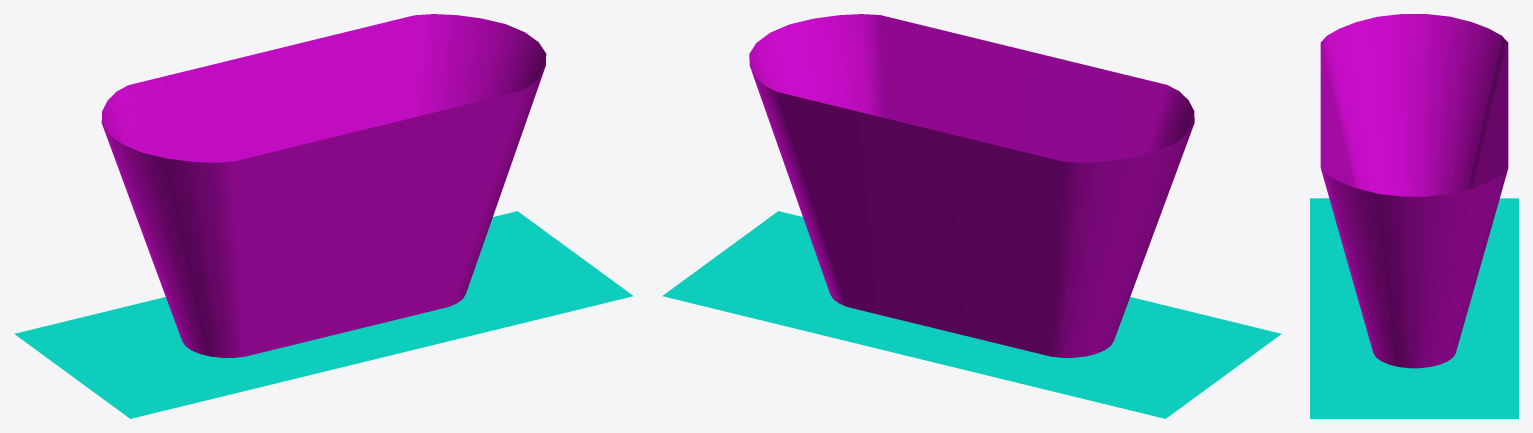
Rendered from obj_building_elevatorlamp_on.fbx.
3 renders of one model, left to right at view 1: azimuth 30°, elevation 25°; view 2: azimuth 150°, elevation 25°; view 3: azimuth 270°, elevation 25°, orthographic. The views are drawn at different scales.
Parts seen in each view (by area): view 1: polySurface1873; view 2: polySurface1873; view 3: polySurface1873.
Boxes of the visible parts, x1=… form: polySurface1873: x1=14, y1=14, x2=633, y2=418; polySurface1873: x1=662, y1=14, x2=1281, y2=418; polySurface1873: x1=1310, y1=14, x2=1518, y2=418.
Bounding box in the file's own units: 10 × 4.84 × 4.
